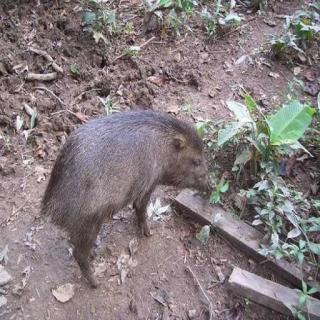Pig: (28, 72, 234, 285)
